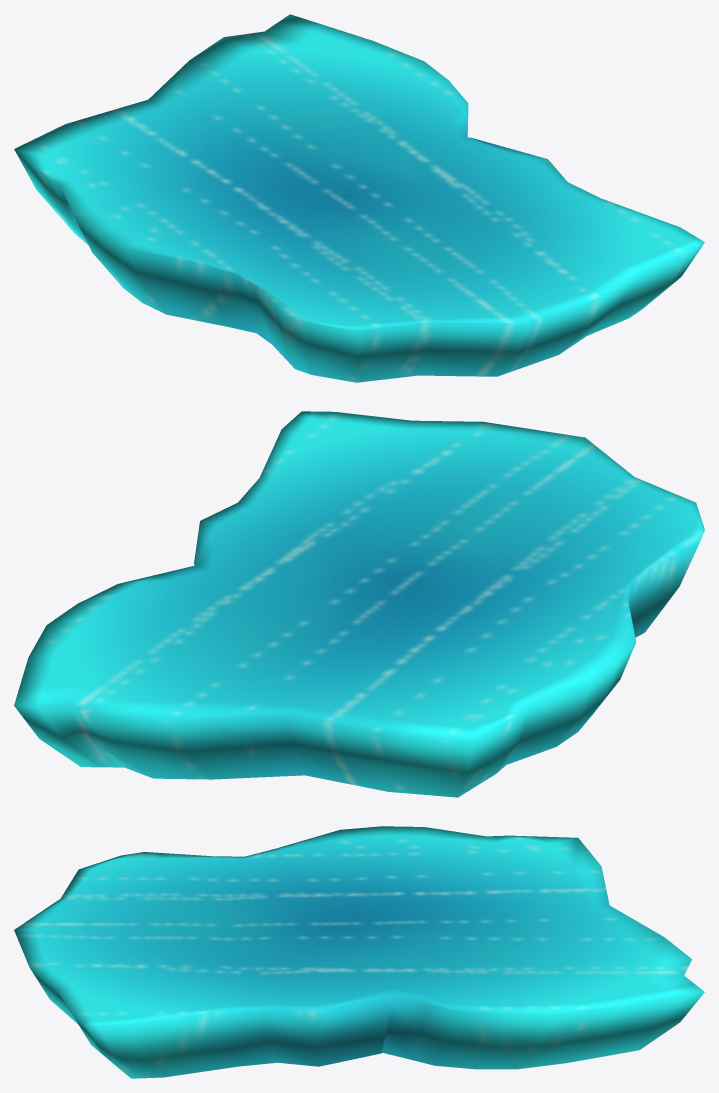
The model's file is Gletscheis_2.fbx.
3 views of the same model, one above another, from view 1: azimuth 30°, elevation 25°; view 2: azimuth 150°, elevation 25°; view 3: azimuth 270°, elevation 25° (orthographic). The views are drawn at different scales.
Visible parts, largest first — view 1: Plane.001; view 2: Plane.001; view 3: Plane.001.
Part boxes in pixels (x1,y1,x2,y2): Plane.001: [14, 14, 704, 382]; Plane.001: [14, 411, 704, 797]; Plane.001: [14, 826, 704, 1078].
Bounding box in the file's own units: 9451 × 1550 × 13809.
